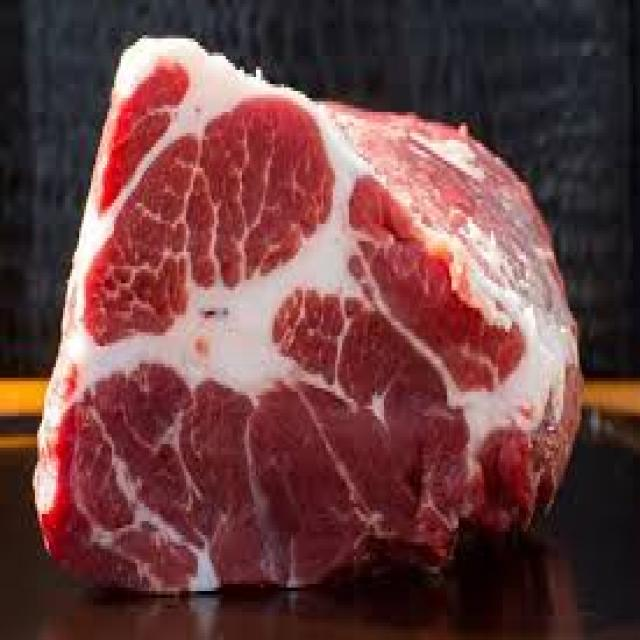Pork: (35, 38, 584, 593)
